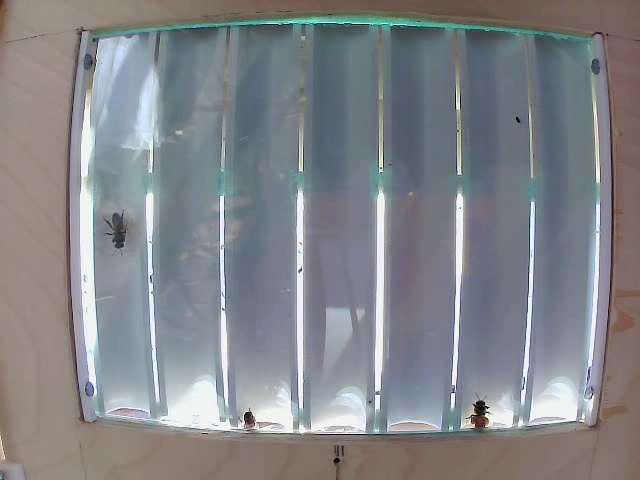bee: (96, 202, 142, 253)
